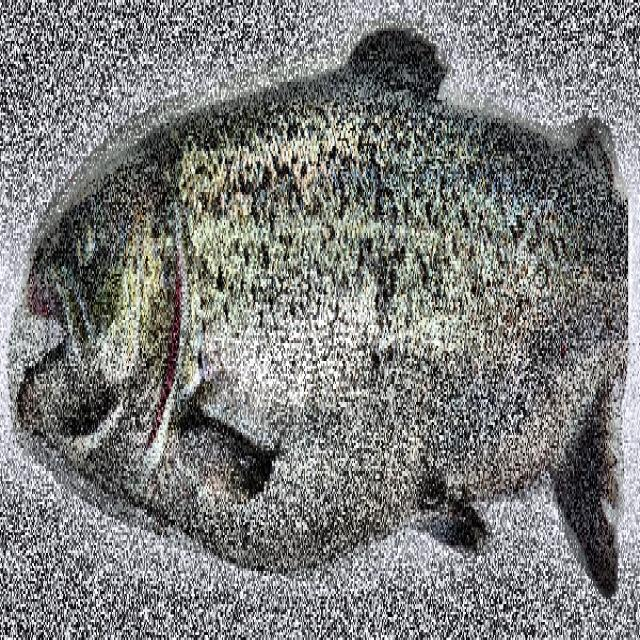mild_red: (169, 61, 625, 561)
wound: (146, 253, 182, 445)
